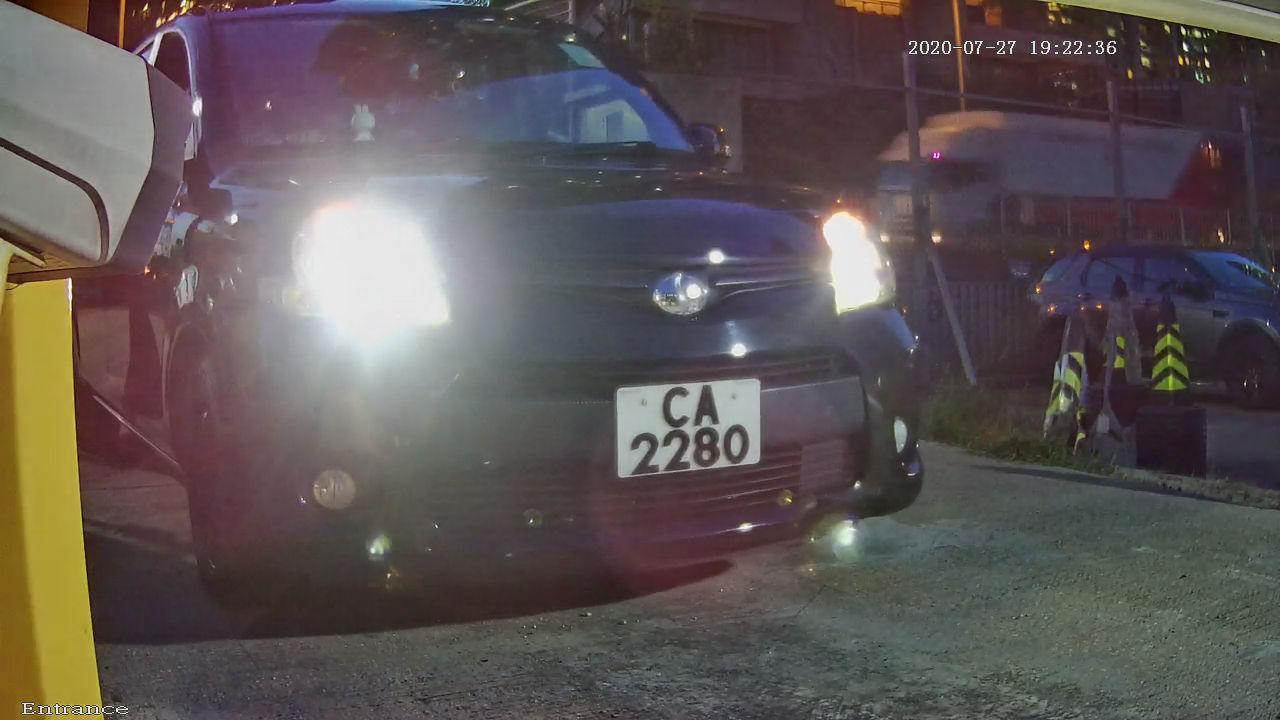privatecar: (172, 13, 978, 647)
